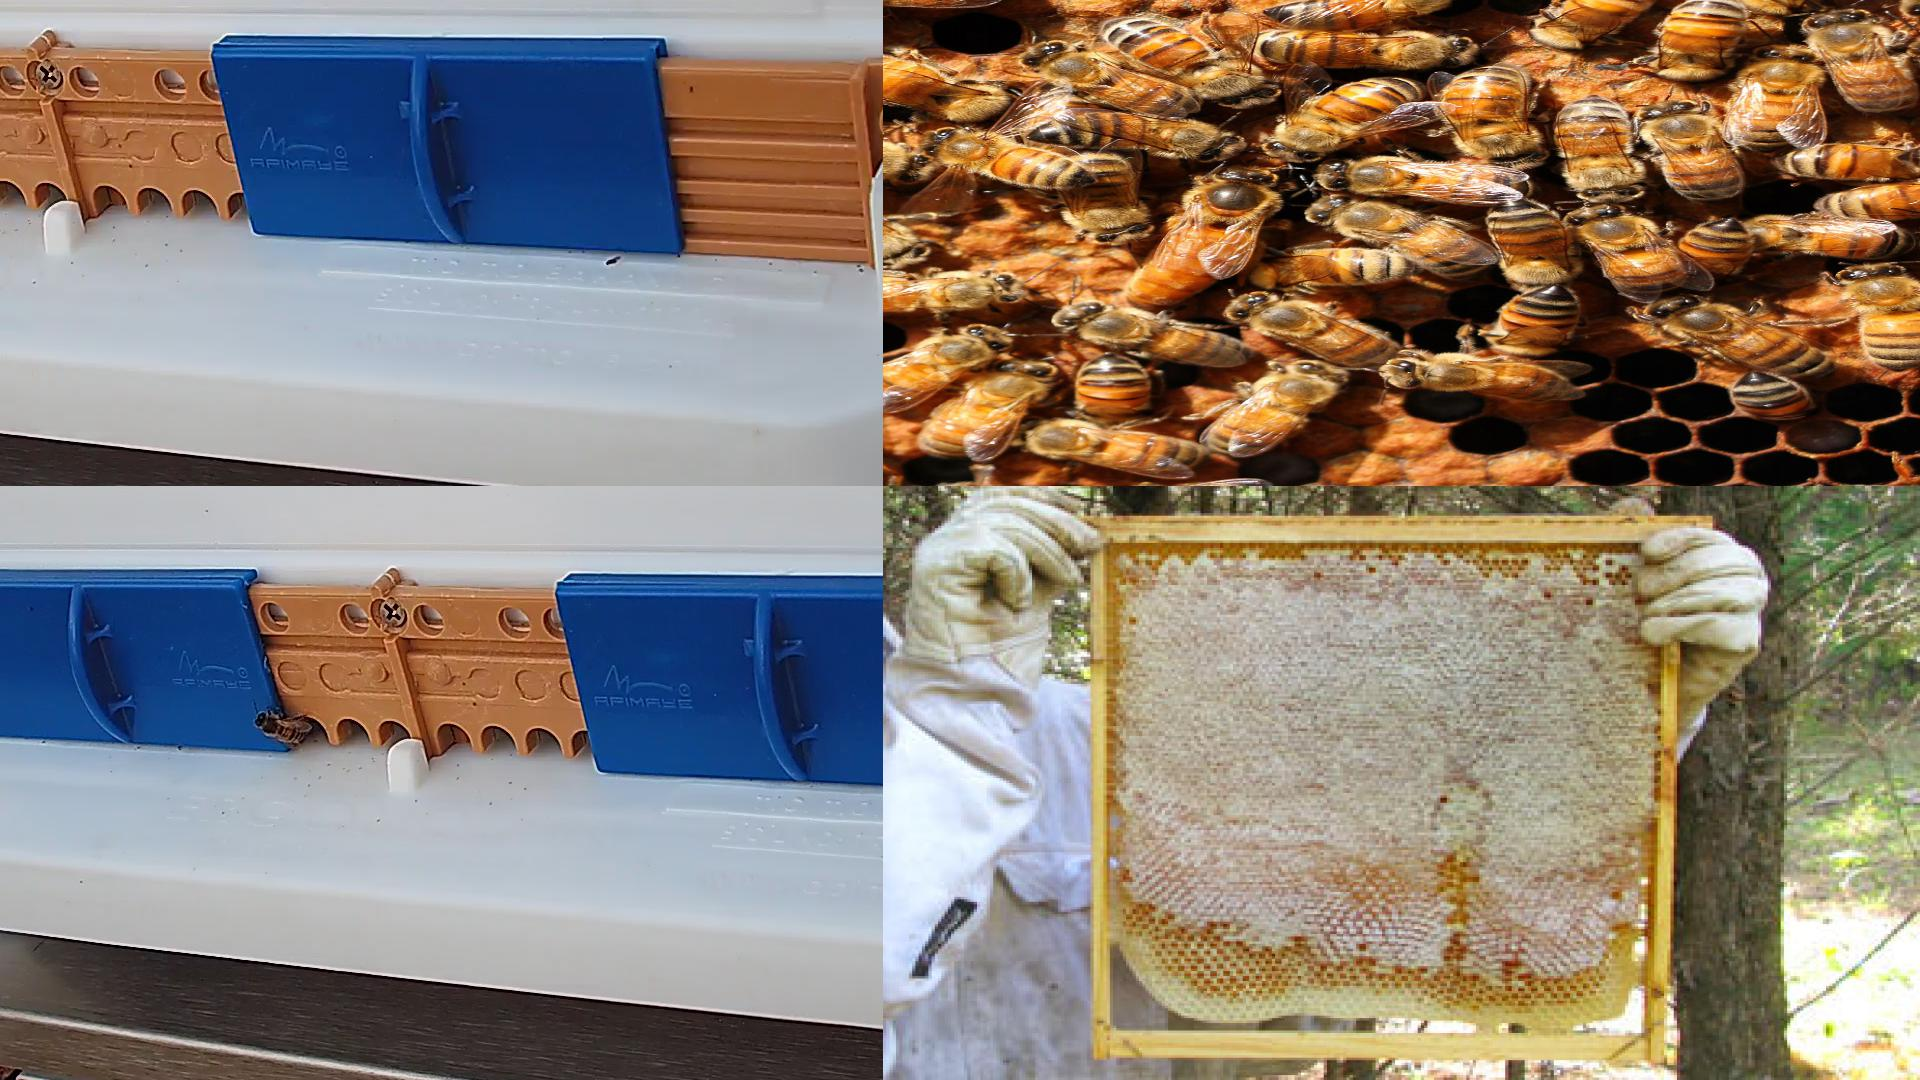bee: (1648, 298, 1836, 378), (1102, 18, 1273, 105), (1312, 195, 1486, 278), (922, 361, 1055, 458), (1050, 302, 1250, 364), (1273, 76, 1423, 158), (1030, 42, 1201, 113), (1209, 364, 1345, 454), (1433, 65, 1547, 167), (1805, 11, 1920, 111), (1232, 294, 1398, 363), (1029, 112, 1244, 162), (884, 324, 1015, 404), (1564, 204, 1683, 291), (924, 131, 1101, 189), (1323, 158, 1536, 206), (1019, 417, 1204, 471), (1640, 103, 1738, 199), (1731, 44, 1817, 152), (1389, 356, 1578, 401), (1557, 96, 1640, 198), (1841, 262, 1919, 371), (1652, 0, 1750, 82), (884, 57, 1010, 119), (1251, 244, 1418, 290), (1749, 218, 1919, 261), (1064, 153, 1147, 241), (1263, 33, 1477, 67), (1486, 286, 1580, 359), (1527, 0, 1654, 49), (1261, 0, 1451, 32), (884, 274, 1019, 318), (1775, 144, 1919, 179), (1073, 355, 1156, 415), (1677, 216, 1750, 282), (1727, 373, 1822, 419), (1820, 182, 1919, 215), (884, 141, 934, 182), (255, 712, 310, 741)
queen: (1124, 170, 1276, 307)
